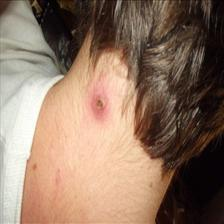Spider: (88, 85, 109, 123)
